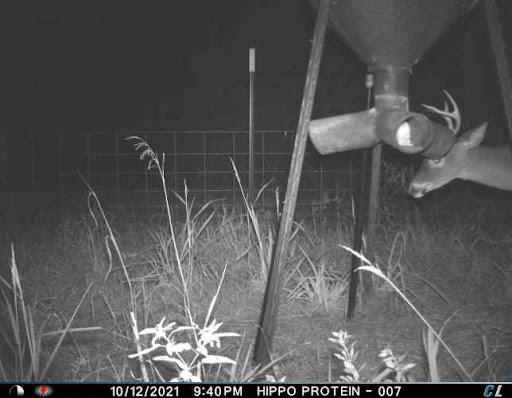Deer: (406, 83, 509, 219)
